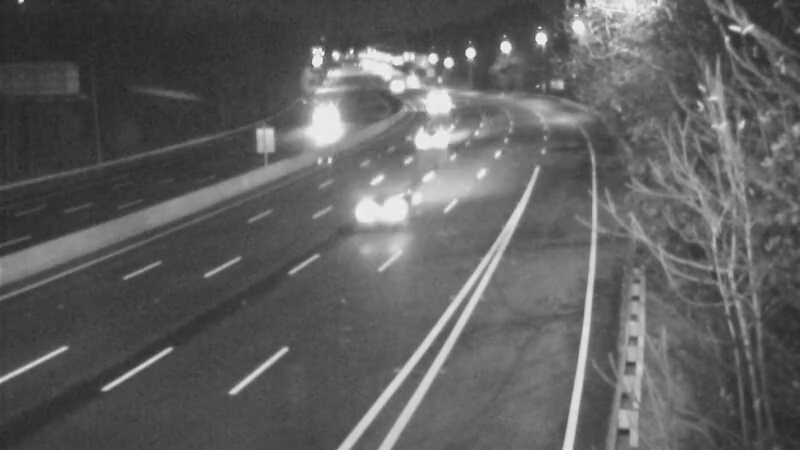vehicle: (356, 156, 436, 236), (408, 68, 458, 118), (416, 81, 466, 131), (404, 108, 454, 158), (297, 98, 347, 148)
